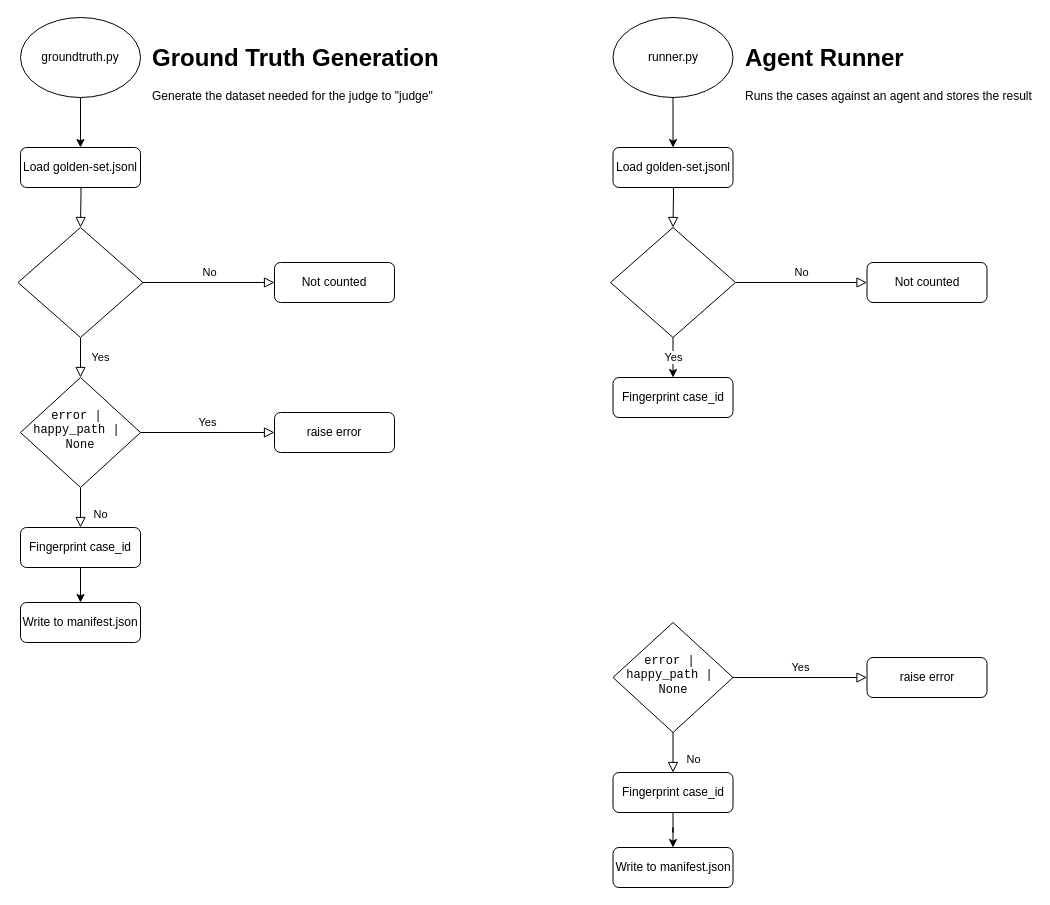
This 1050x905 diagram has some shape labels left out. Each missing label, with the box of its shape:
SetExpected | ScalarExpected: (17, 226, 143, 338)
valid case_id?: (610, 226, 736, 338)
